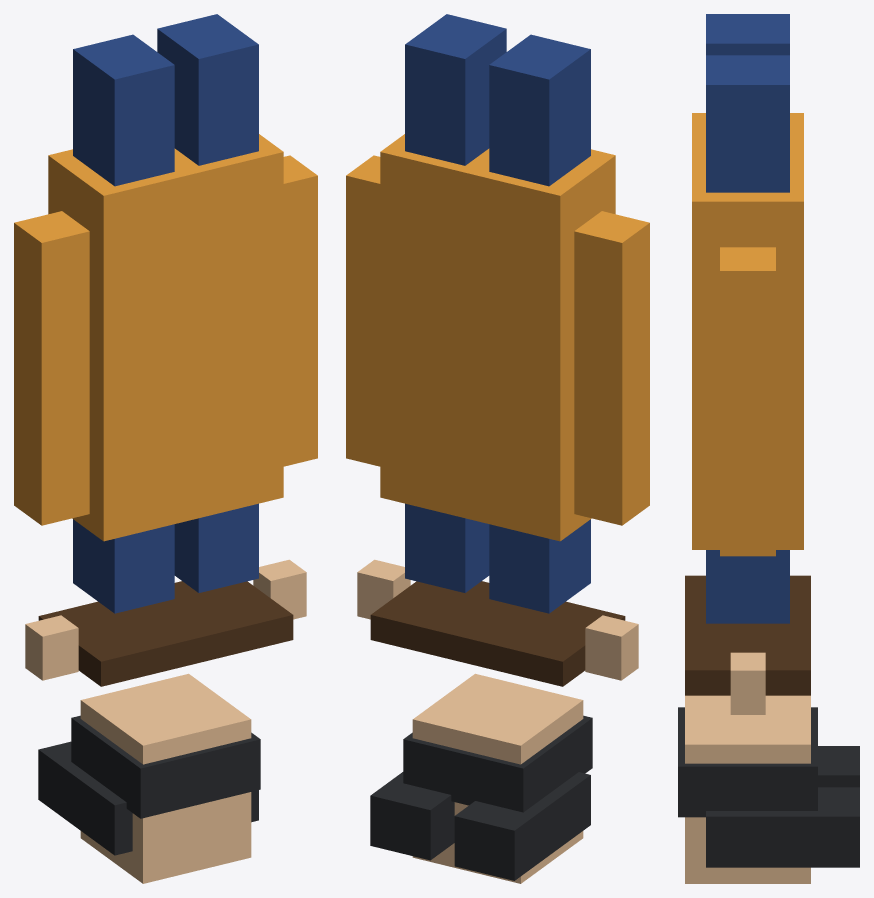
File: civilian-004.glb
3 renders of one model, left to right at view 1: azimuth 30°, elevation 25°; view 2: azimuth 150°, elevation 25°; view 3: azimuth 270°, elevation 25°, orthographic.
Visible parts, largest first — view 1: civilian_civilian-004; view 2: civilian_civilian-004; view 3: civilian_civilian-004.
Boxes of the visible parts, x1,y1,x2,y2 form: civilian_civilian-004: [14, 14, 317, 883]; civilian_civilian-004: [346, 14, 649, 883]; civilian_civilian-004: [678, 14, 859, 883].
Size of the model in its own units: 0.46 by 1.28 by 0.26.
